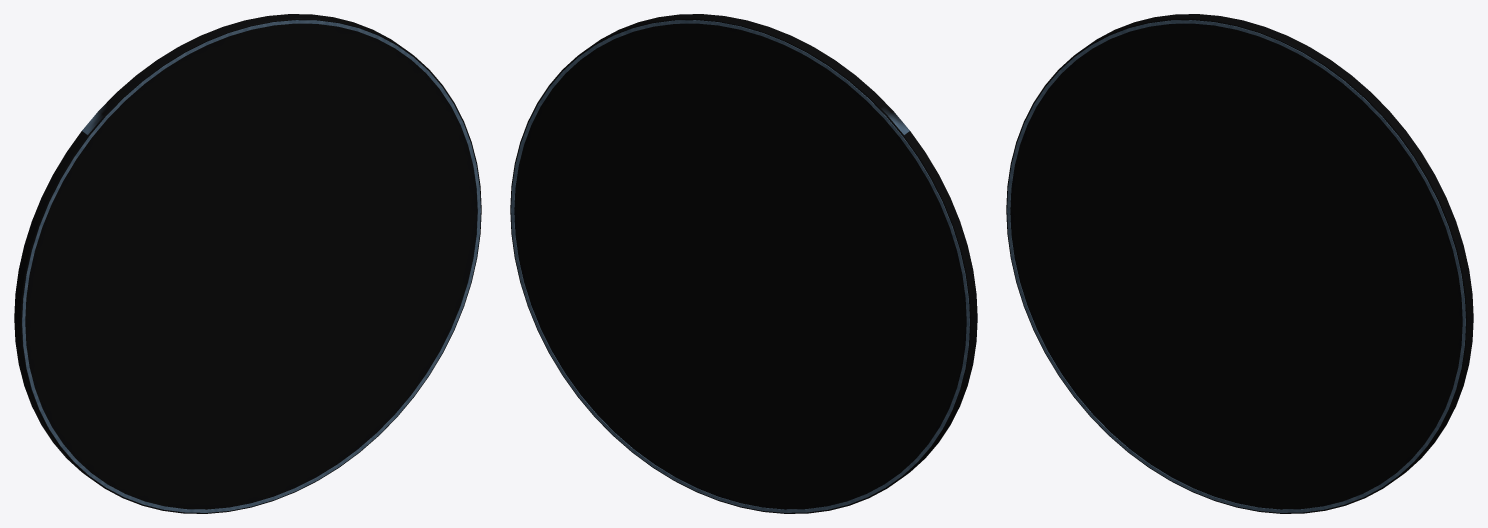
The model's file is black_sun.fbx.
The picture shows the model from 3 angles, left to right: view 1: azimuth 30°, elevation 25°; view 2: azimuth 150°, elevation 25°; view 3: azimuth 330°, elevation 25°; orthographic projection.
Visible parts, largest first — view 1: Body, Glow; view 2: Body, Glow; view 3: Body, Glow.
Boxes of the visible parts, x1=… form: Body: x1=14, y1=14, x2=481, y2=513; Glow: x1=22, y1=20, x2=480, y2=512; Body: x1=510, y1=14, x2=977, y2=513; Glow: x1=511, y1=20, x2=969, y2=512; Body: x1=1006, y1=14, x2=1473, y2=513; Glow: x1=1007, y1=20, x2=1465, y2=512.
Size of the model in its own units: 40 by 40 by 1.08.
Materials: 1 (1 with a texture image).
